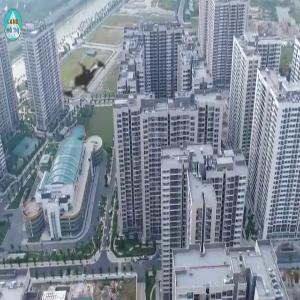drone: (39, 31, 140, 132)
